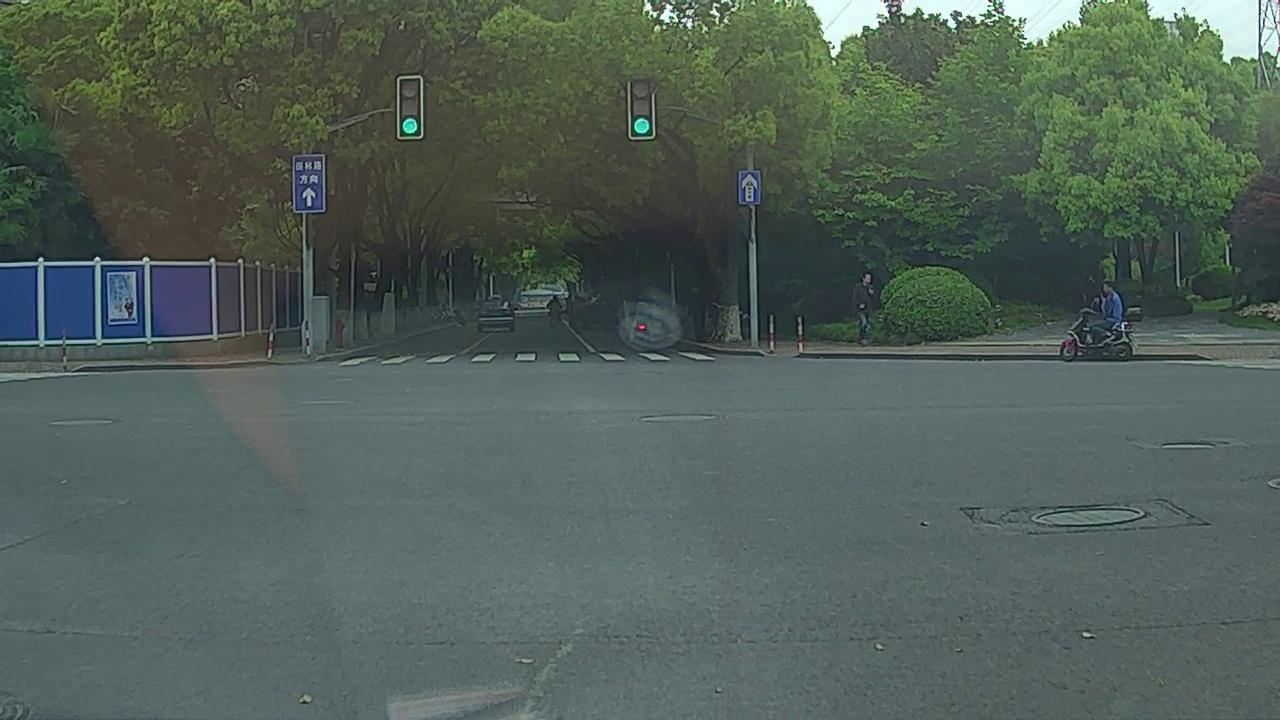traffic_light: (399, 77, 422, 136), (631, 80, 654, 138)
